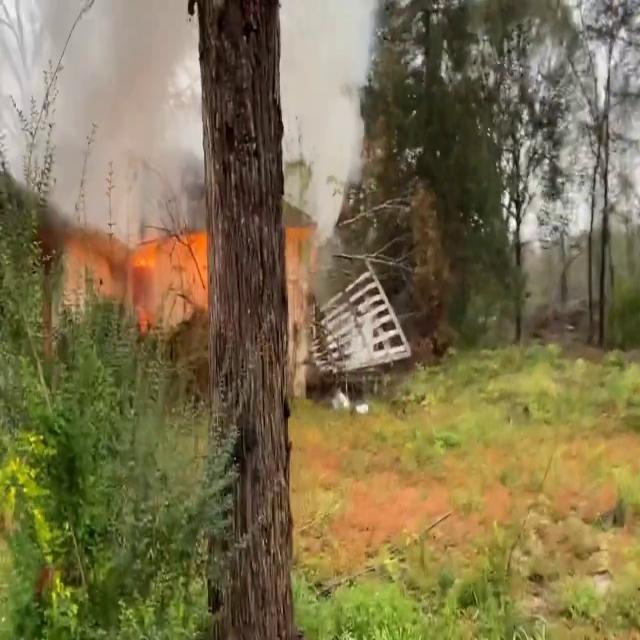Fire: (130, 214, 210, 321)
Smoke: (35, 0, 201, 228), (278, 0, 391, 263)
